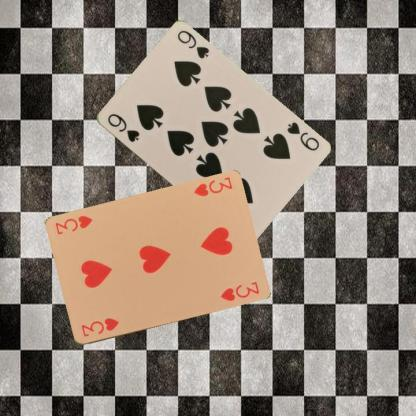3h: (190, 175, 234, 198), (78, 316, 120, 338)
9s: (104, 110, 140, 144), (284, 119, 320, 153)
